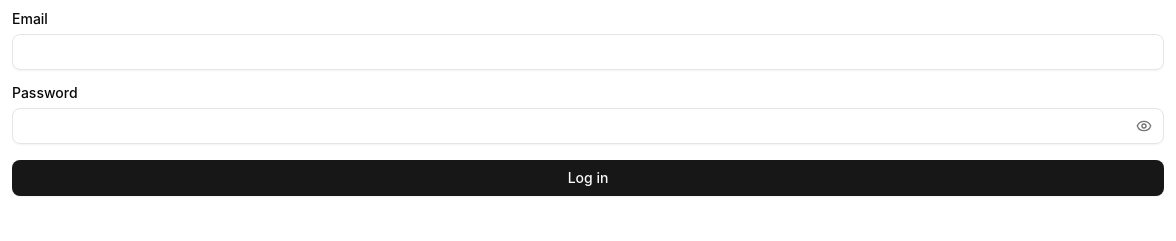
LoginForm › shows a validation error for an invalid email
Type "not-an-email" into the field labelled "Email" at (588,52), box 12,34 -> 1164,70
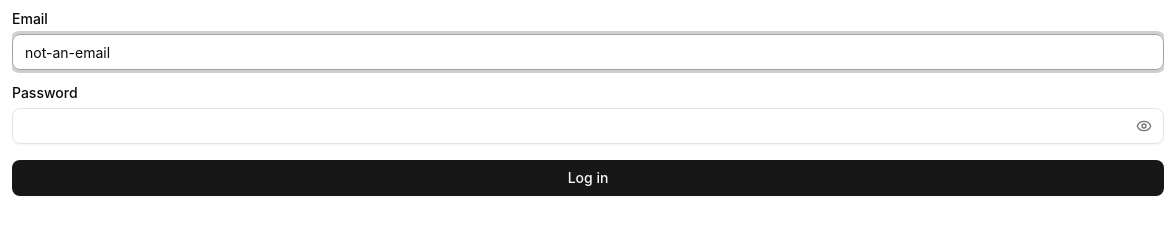
Type "password123" into the password field labelled "Password" at (588,126), box 12,108 -> 1164,144
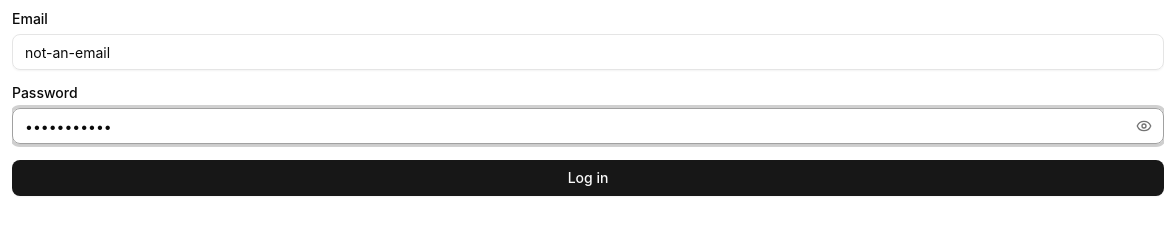
Click the button "Log in" at (588,178), box 12,160 -> 1164,196
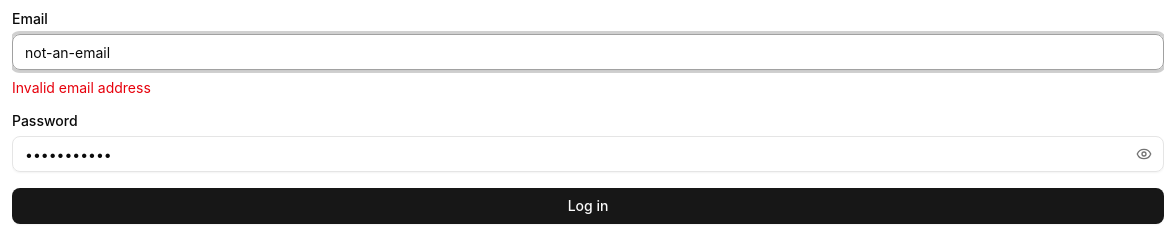
Result: the message shows "Invalid" at 12,79 -> 151,96
